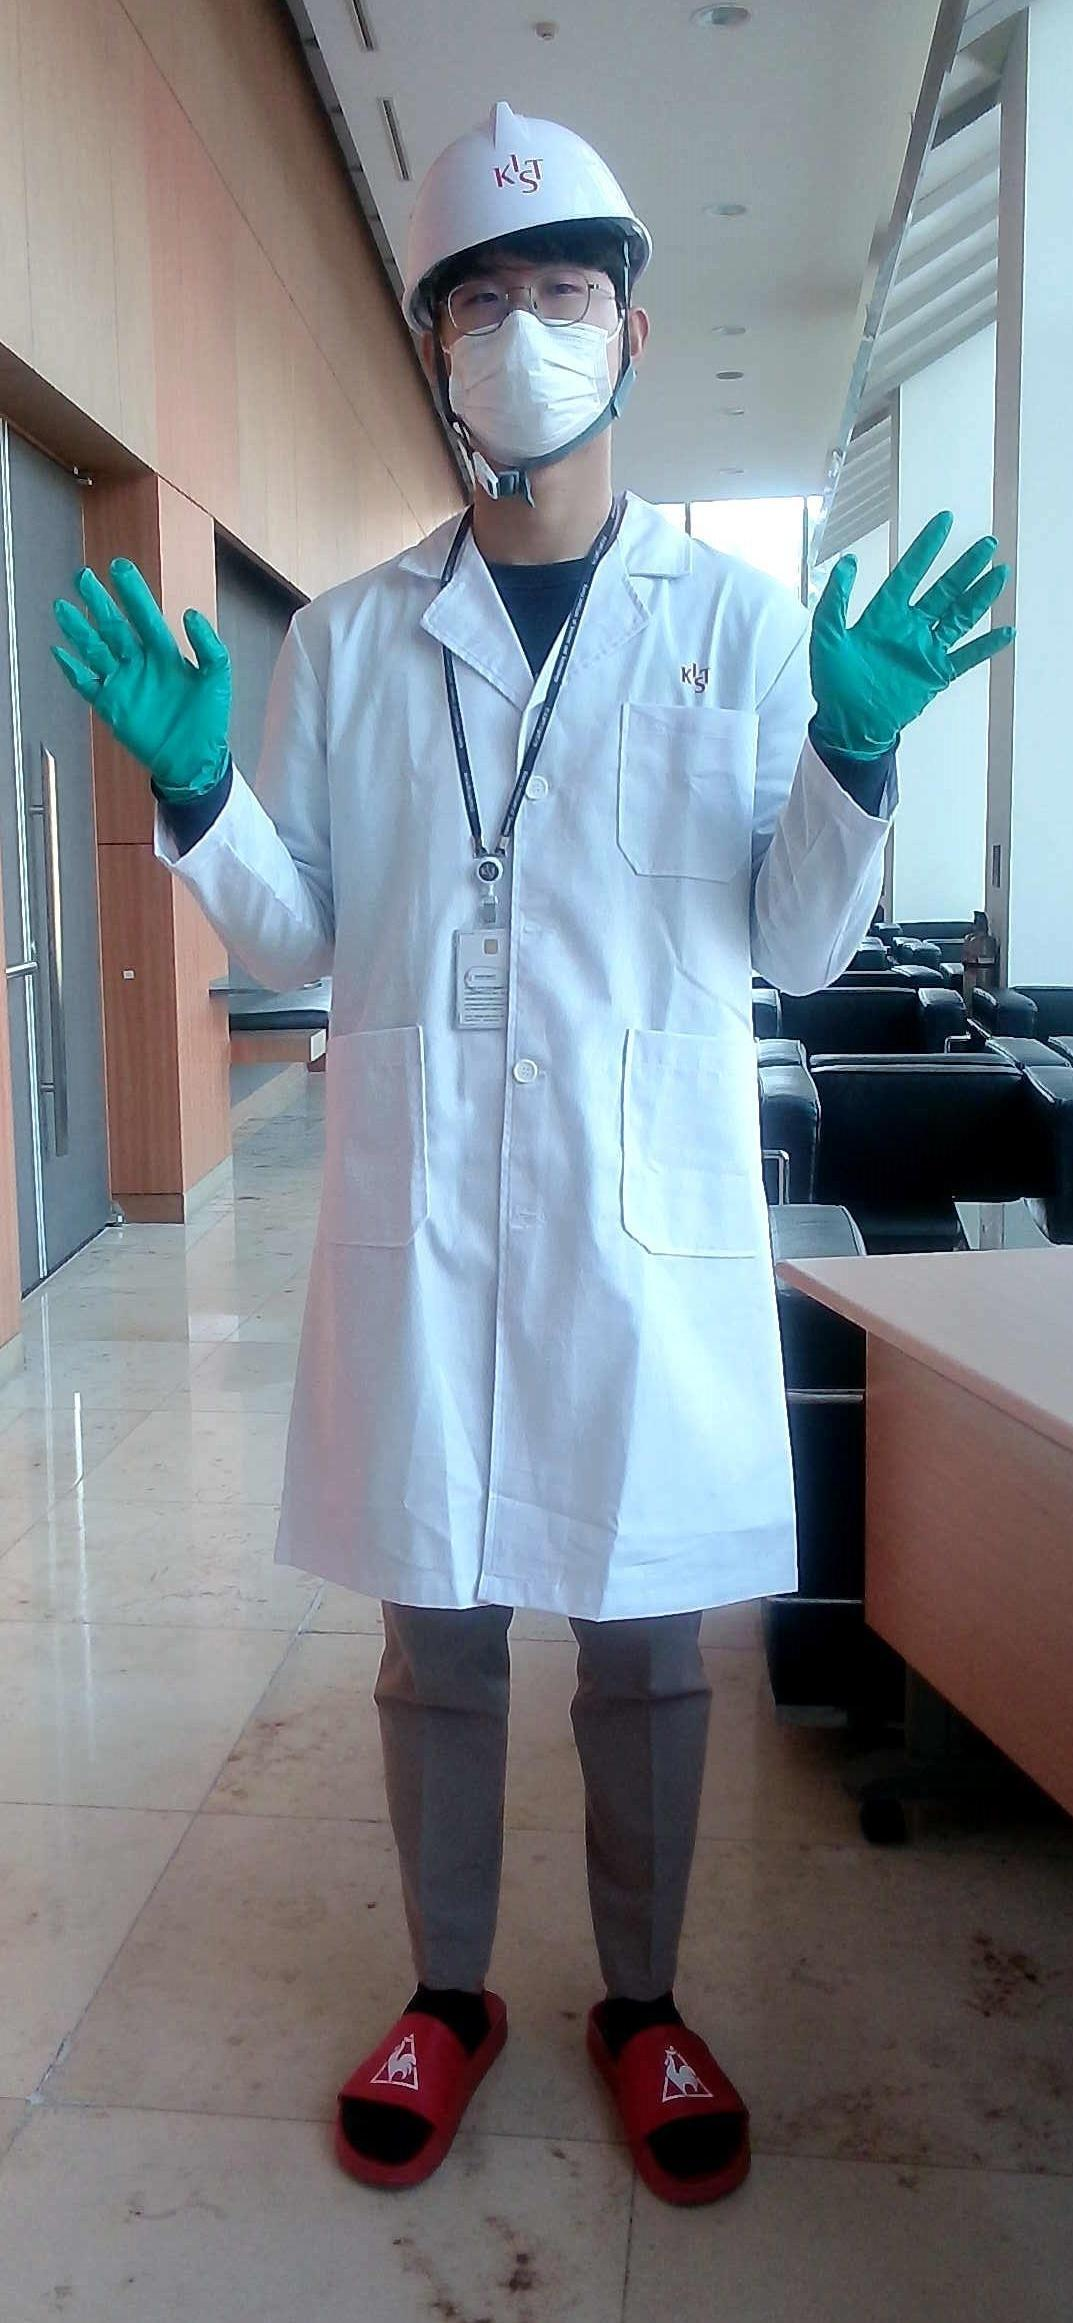lab_coat: (265, 566, 812, 1594)
